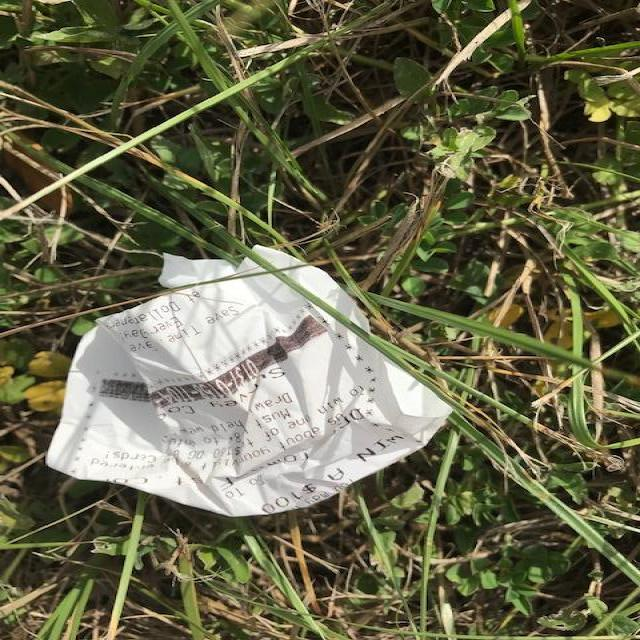litter: (45, 245, 453, 517)
